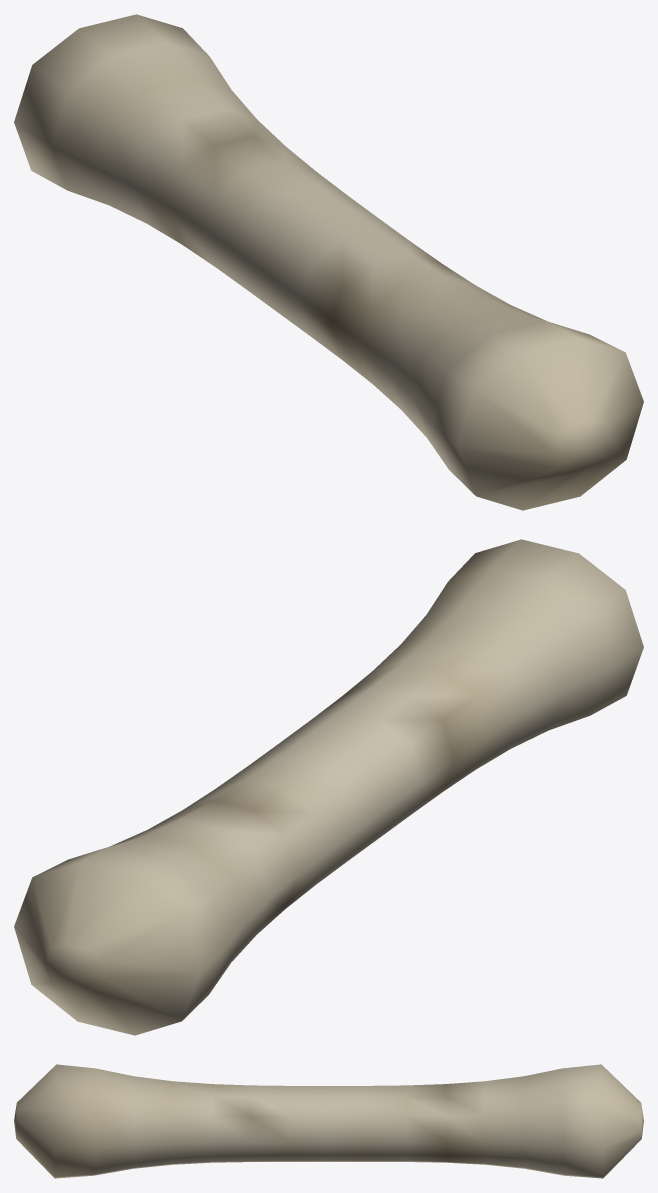
File: bone-shaft-b.glb
3 views of the same model, one above another, from view 1: azimuth 30°, elevation 25°; view 2: azimuth 150°, elevation 25°; view 3: azimuth 270°, elevation 25° (orthographic). The views are drawn at different scales.
Parts seen in each view (by area): view 1: bone-shaft-b; view 2: bone-shaft-b; view 3: bone-shaft-b.
Boxes of the visible parts, bbox=[...] form: bone-shaft-b: bbox=[14, 14, 643, 510]; bone-shaft-b: bbox=[14, 539, 643, 1035]; bone-shaft-b: bbox=[14, 1064, 643, 1178].
Size of the model in its own units: 0.2118 by 0.1711 by 1.01.
